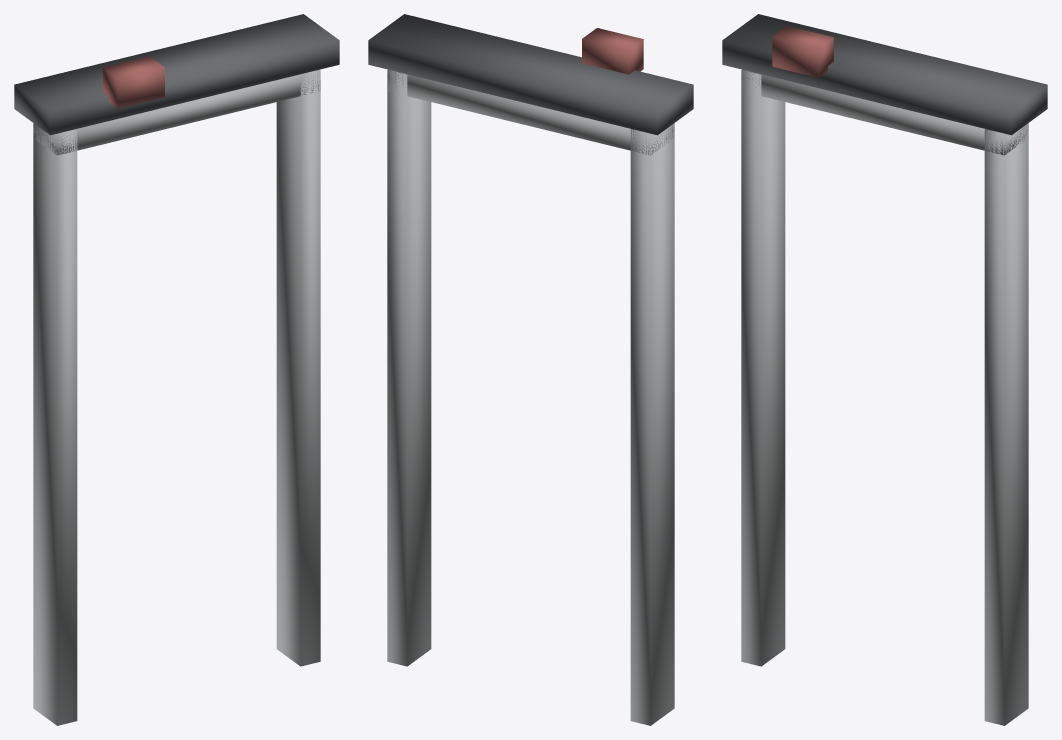
Rendered from doorway_fire_rated_w86_h210_d16.glb.
3 renders of one model, left to right at view 1: azimuth 30°, elevation 25°; view 2: azimuth 150°, elevation 25°; view 3: azimuth 330°, elevation 25°, orthographic.
Parts seen in each view (by area): view 1: world; view 2: world; view 3: world.
Part boxes in pixels (x1,y1,x2,y2): world: (14,14,339,725); world: (368,14,693,725); world: (722,14,1047,725).
Size of the model in its own units: 1.11 by 2.38 by 0.3.
